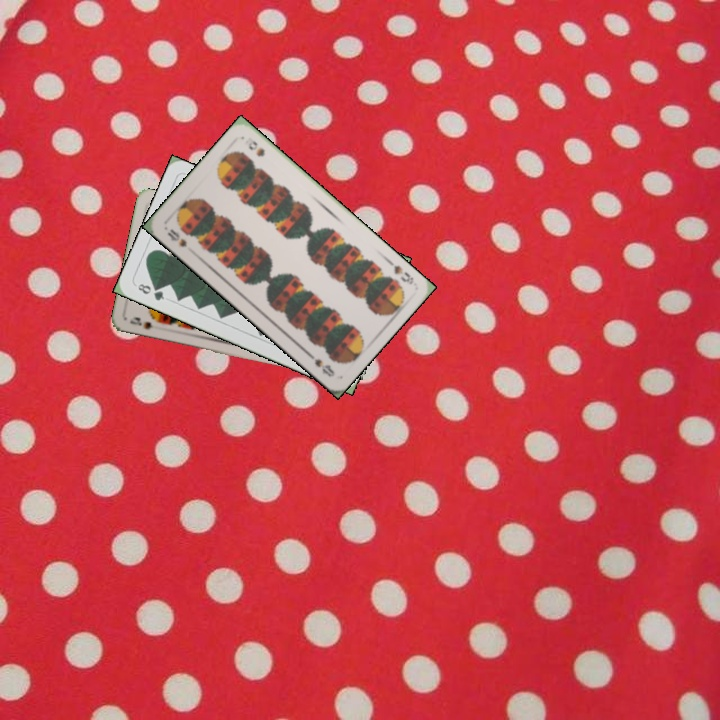G8: (134, 280, 167, 303)
S8: (383, 256, 416, 287), (163, 225, 189, 250)
S9: (125, 313, 156, 332)
